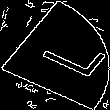L_NW: (15, 28, 95, 82)
